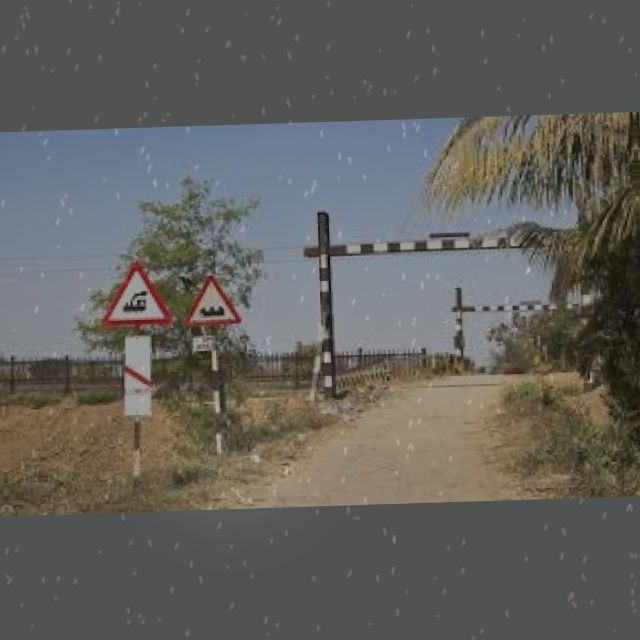Unguarded_Level_Crossing: (102, 251, 172, 335)
